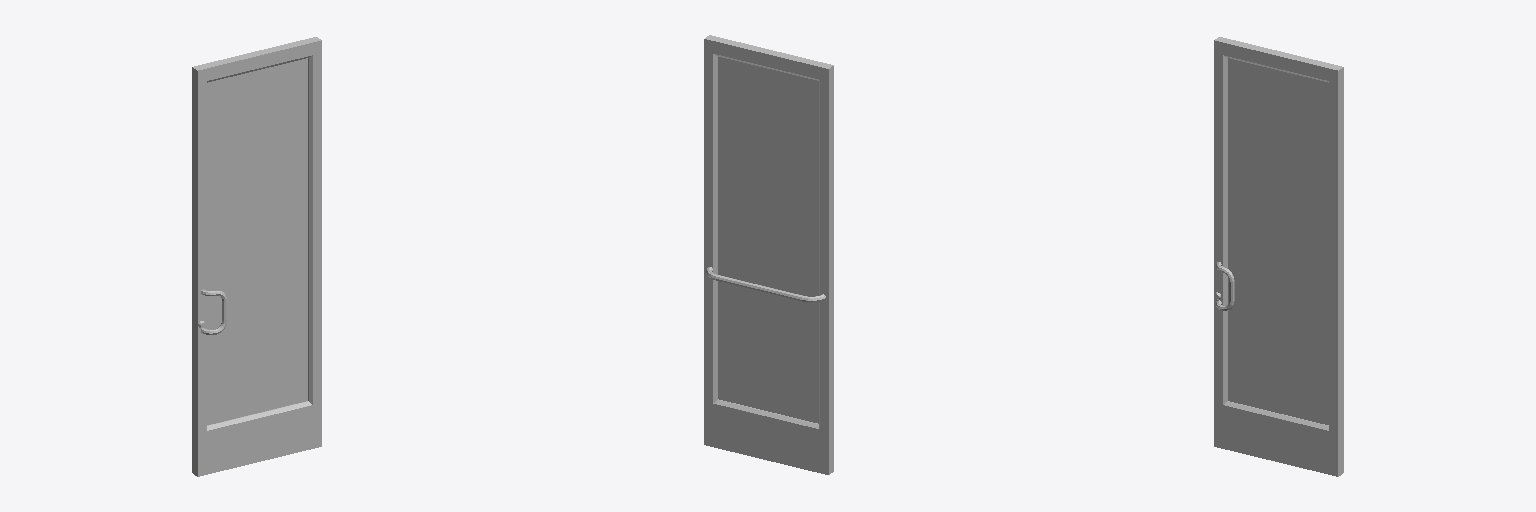
The model's file is Building_Door_Right_LOD0.obj.
The picture shows the model from 3 angles: view 1: azimuth 30°, elevation 25°; view 2: azimuth 150°, elevation 25°; view 3: azimuth 330°, elevation 25°; orthographic projection.
Visible parts, largest first — view 1: Building_Door_Right_LOD0 Building_Door_Right; view 2: Building_Door_Right_LOD0 Building_Door_Right; view 3: Building_Door_Right_LOD0 Building_Door_Right.
Boxes of the visible parts, box(x1,y1,x2,y2) form: Building_Door_Right_LOD0 Building_Door_Right: box(192, 37, 321, 476); Building_Door_Right_LOD0 Building_Door_Right: box(704, 35, 833, 474); Building_Door_Right_LOD0 Building_Door_Right: box(1214, 37, 1343, 476).
Size of the model in its own units: 79.94 by 250 by 21.69.